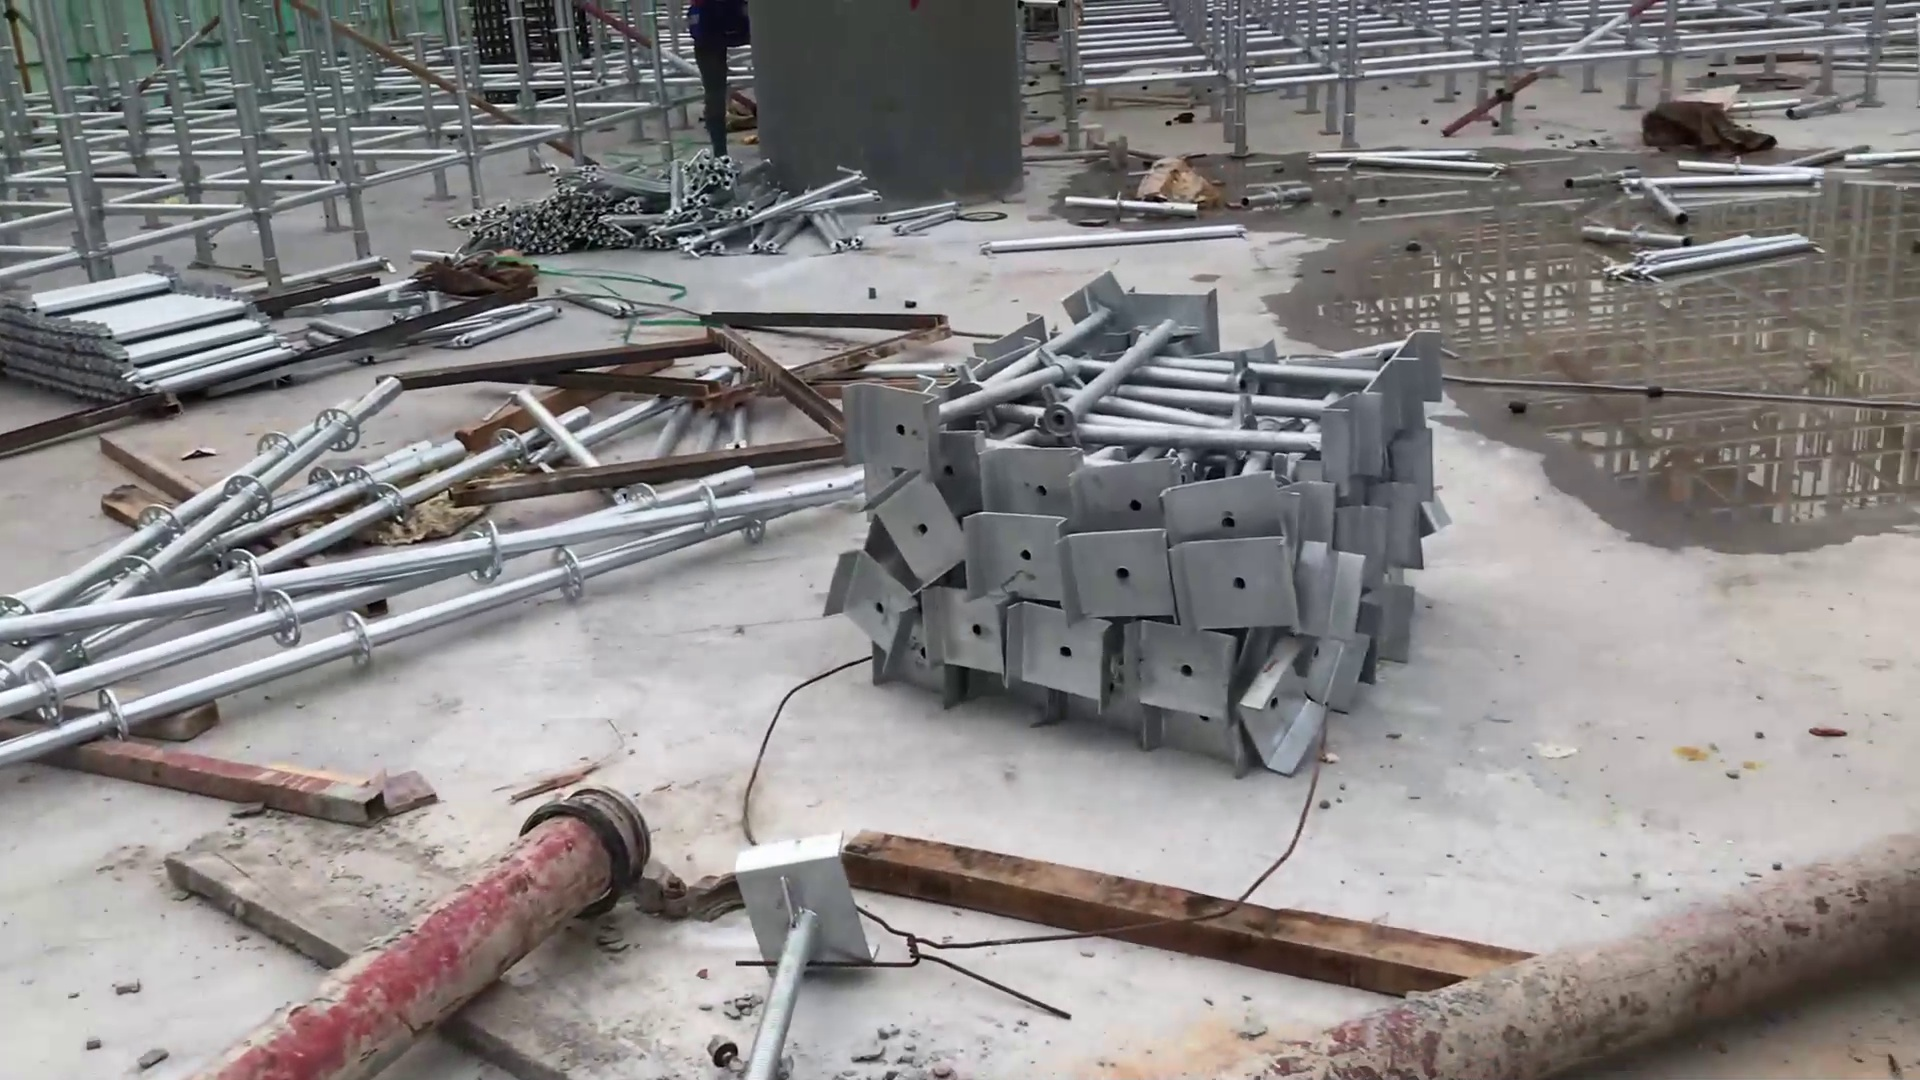scaffold: (810, 276, 1456, 765), (7, 237, 295, 409)
